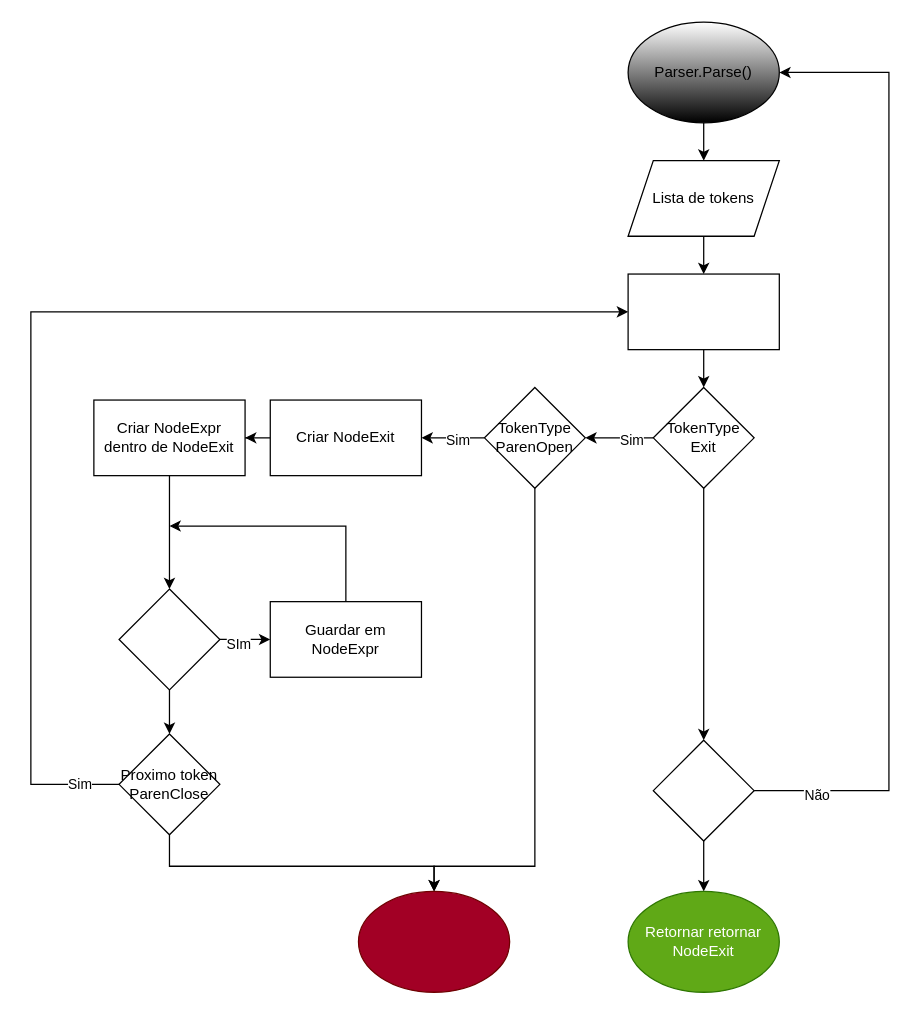
Image size: 921x1014. Some labels were removed from this diagram. Each missing label, with the centre of its shape:
Proximo token IntLit: the point at 169,639
Syntax error: the point at 433,941
TokenType SemiCol: the point at 703,790
Verificar proximo token e categoriza-lo: the point at 703,311
